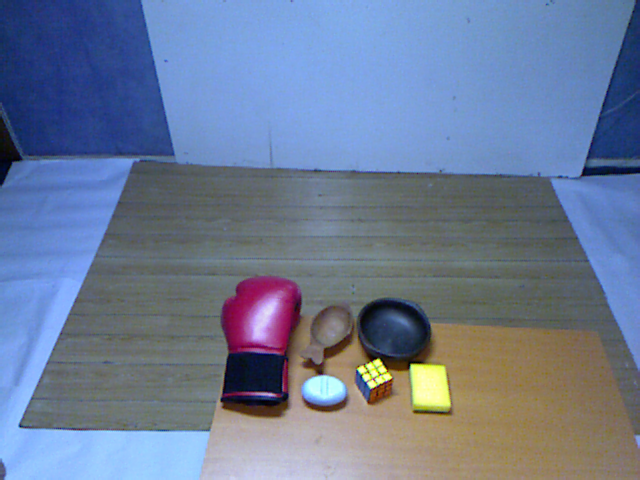cubix: (349, 351, 398, 408)
esponja: (404, 357, 458, 421)
greda: (350, 287, 438, 373)
guante: (205, 270, 307, 412)
jabon: (296, 370, 353, 419)
pescado: (295, 295, 364, 370)
